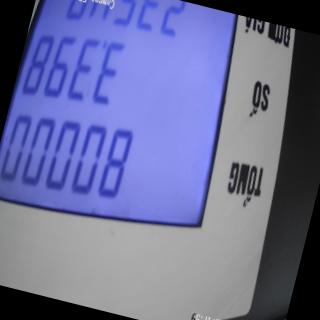screen: (0, 0, 258, 258)
